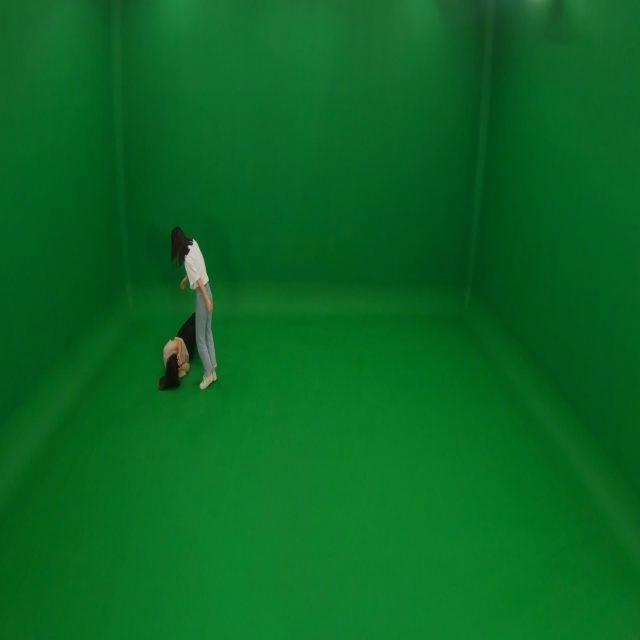fight: (150, 223, 219, 392)
